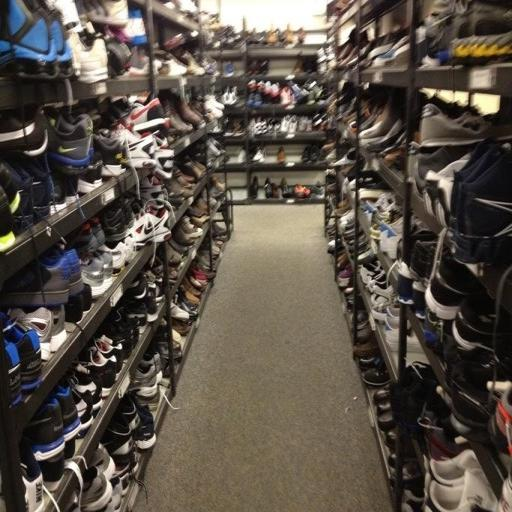shoe: (0, 109, 48, 212), (0, 0, 58, 80), (420, 104, 506, 147), (425, 255, 481, 320), (0, 313, 42, 393), (0, 262, 69, 308), (424, 470, 498, 512), (8, 308, 65, 361), (47, 114, 94, 176), (24, 398, 64, 461), (52, 385, 82, 458), (68, 31, 109, 84), (429, 449, 481, 487), (67, 364, 102, 417), (80, 347, 116, 398), (20, 438, 44, 512), (94, 132, 129, 178), (80, 466, 112, 512), (127, 98, 165, 132), (133, 396, 156, 450), (4, 340, 22, 405), (80, 253, 106, 298), (88, 443, 116, 481), (0, 187, 16, 252), (130, 364, 158, 400), (363, 365, 390, 387), (280, 178, 292, 198), (264, 177, 273, 199), (250, 176, 258, 199), (224, 61, 234, 77), (278, 146, 286, 165)
